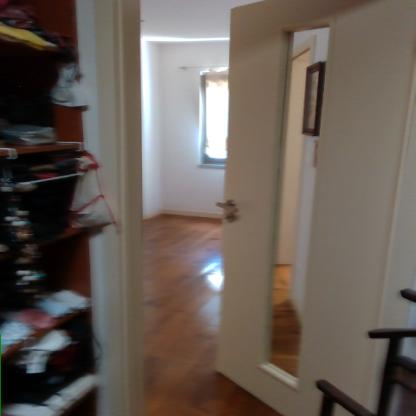semi: (106, 6, 322, 416)
